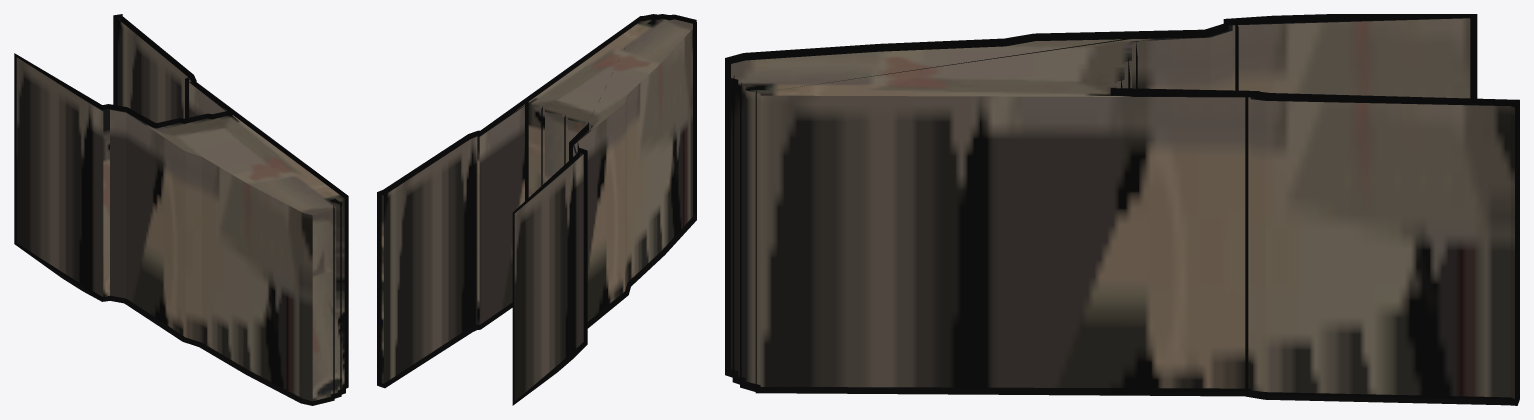
Rendered from Building_AncientMegaCannonBarrel_Things_Building_Ruins_AncientMegacannonBarrel.glb.
The picture shows the model from 3 angles, left to right: view 1: azimuth 30°, elevation 25°; view 2: azimuth 150°, elevation 25°; view 3: azimuth 270°, elevation 25°; orthographic projection. The views are drawn at different scales.
Visible parts, largest first — view 1: Body, Outline; view 2: Body, Outline; view 3: Body, Outline.
Boxes of the visible parts, left/top/right/bottom form: Body: left=16, top=18, right=344, bottom=401; Outline: left=14, top=14, right=348, bottom=405; Body: left=381, top=19, right=692, bottom=401; Outline: left=377, top=14, right=696, bottom=405; Body: left=731, top=18, right=1514, bottom=398; Outline: left=725, top=14, right=1519, bottom=405.
Bounding box in the file's own units: 0.4114 × 0.6344 × 1.49.
Materials: 2 (1 with a texture image).
